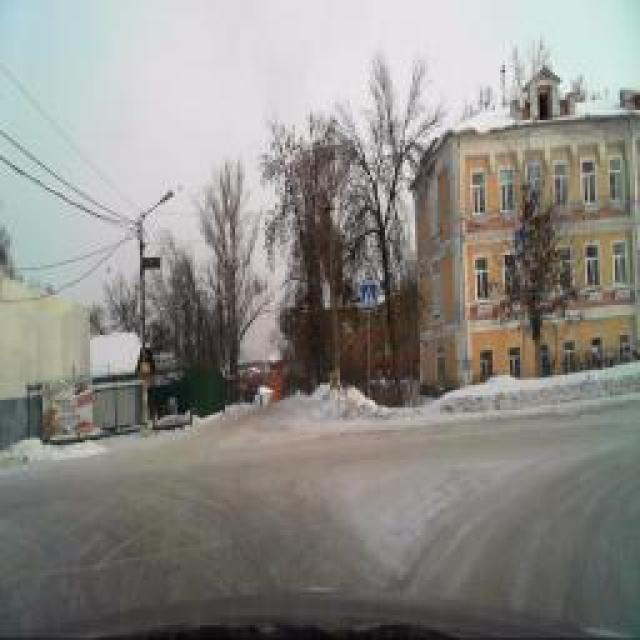sign: (362, 284, 376, 311), (515, 226, 525, 262)
